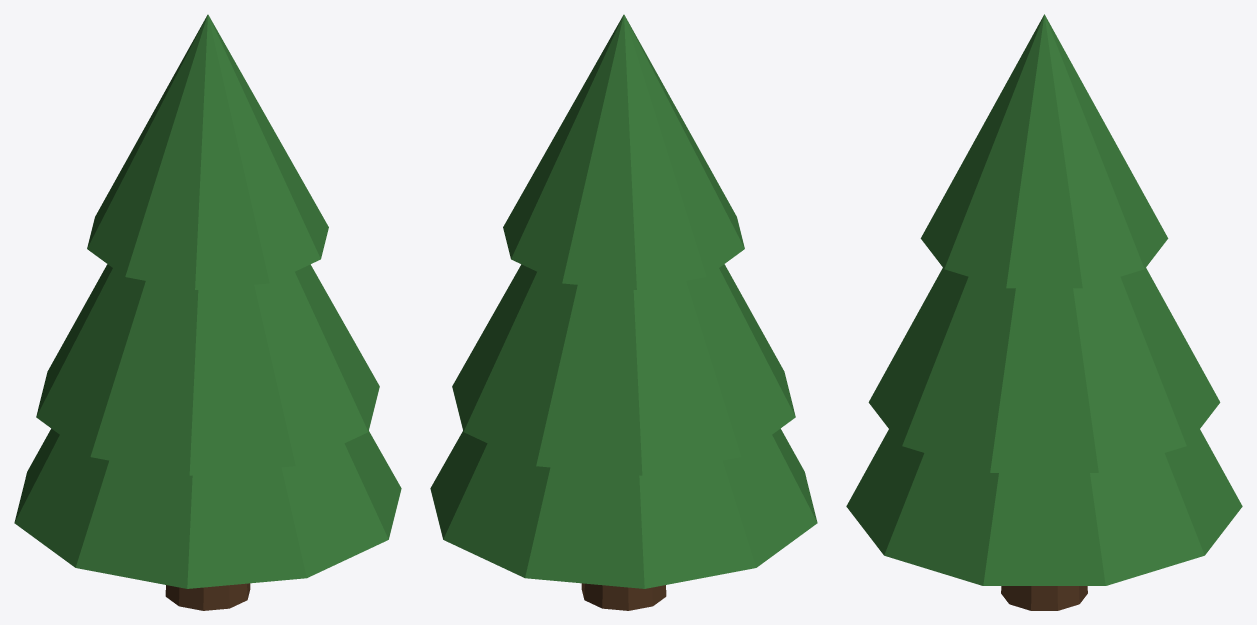
File: pineTree.glb
3 views of the same model, side by side, from view 1: azimuth 30°, elevation 25°; view 2: azimuth 150°, elevation 25°; view 3: azimuth 270°, elevation 25° (orthographic).
Visible parts, largest first — view 1: tree.003; view 2: tree.003; view 3: tree.003.
Boxes of the visible parts, x1,y1,x2,y2 form: tree.003: (14, 14, 401, 610); tree.003: (430, 14, 817, 610); tree.003: (846, 14, 1242, 610).
Size of the model in its own units: 2.06 by 3.5 by 2.17.
